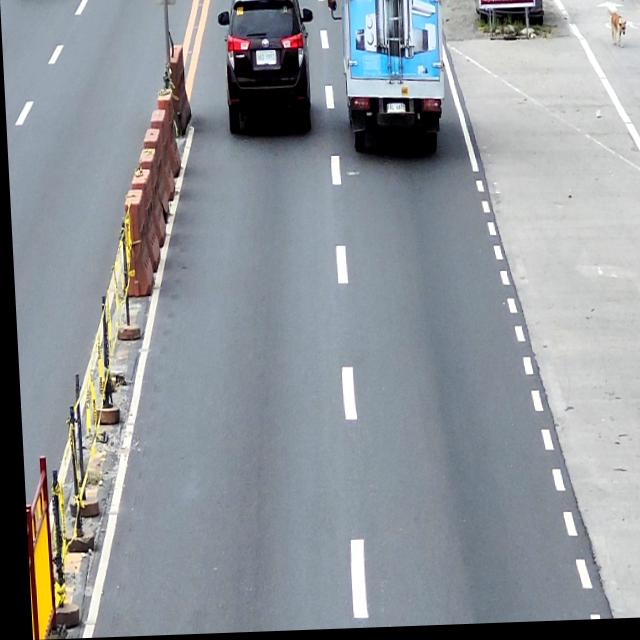Car: (217, 0, 319, 140)
License-Plate: (255, 52, 276, 67), (385, 105, 405, 117)
Truck: (327, 0, 450, 159)
